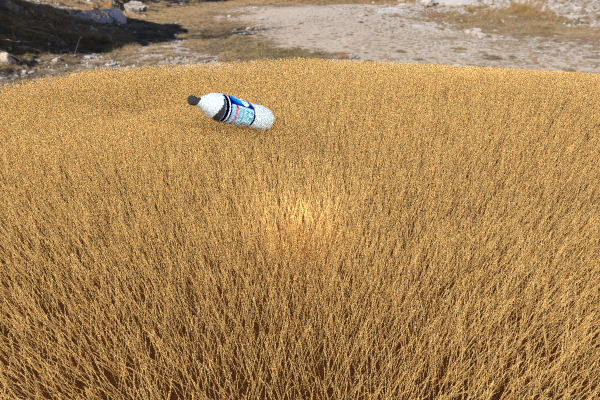Plastic Bottle: (187, 92, 274, 130), (322, 94, 374, 131)
